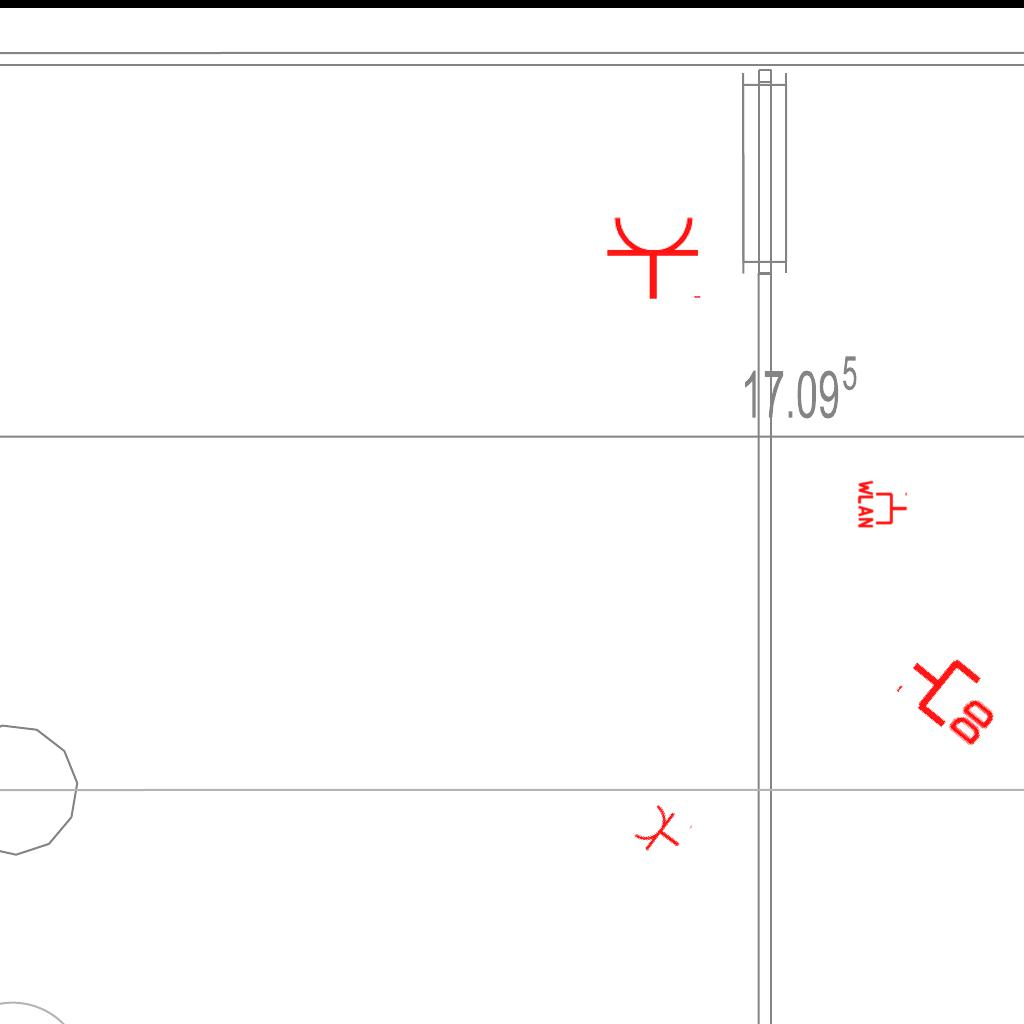Datenanschluss_zweifach: (891, 635, 1016, 754)
Schukosteckdose_einfach: (605, 214, 705, 301), (630, 799, 695, 865)
WLAN: (857, 478, 909, 530)
